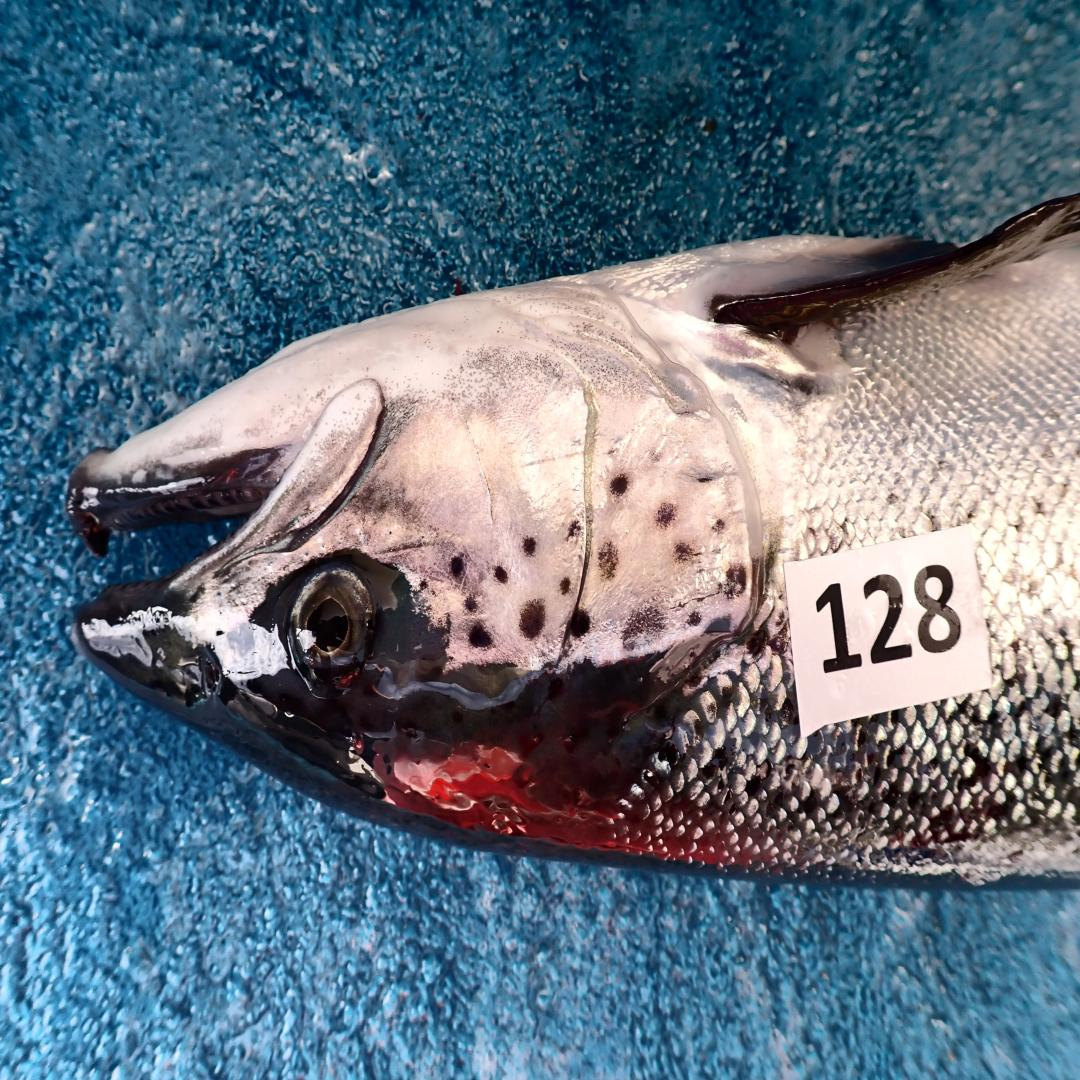spot: (622, 605, 664, 641), (519, 599, 546, 638), (597, 543, 618, 579), (724, 565, 747, 596), (570, 610, 591, 638), (468, 622, 491, 647), (643, 444, 667, 467), (656, 503, 677, 526), (610, 472, 629, 495), (705, 616, 730, 633), (449, 554, 464, 579), (675, 543, 694, 562), (464, 593, 479, 613), (686, 610, 702, 627), (523, 537, 536, 557), (567, 520, 580, 540), (696, 472, 717, 484), (494, 565, 508, 582), (559, 577, 572, 593), (713, 518, 726, 532), (416, 579, 428, 591)
